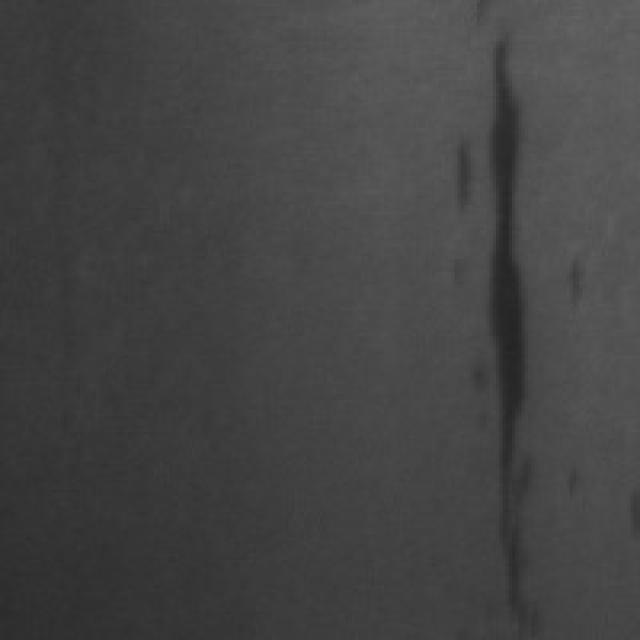inclusion: (458, 16, 554, 589), (496, 438, 560, 634)
